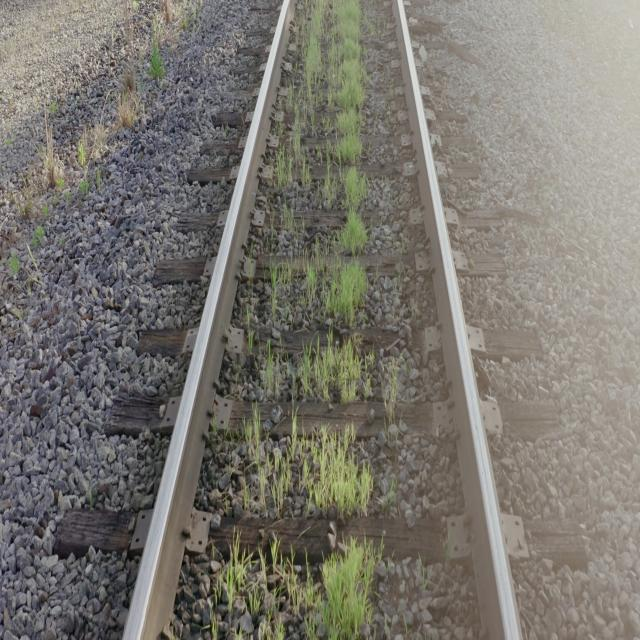Plant: (274, 0, 368, 253), (244, 411, 374, 518), (288, 540, 376, 640), (321, 538, 378, 640), (290, 338, 371, 402), (302, 264, 369, 327), (219, 542, 269, 620), (271, 269, 290, 302), (266, 349, 281, 389), (270, 542, 280, 569), (281, 207, 292, 229)
